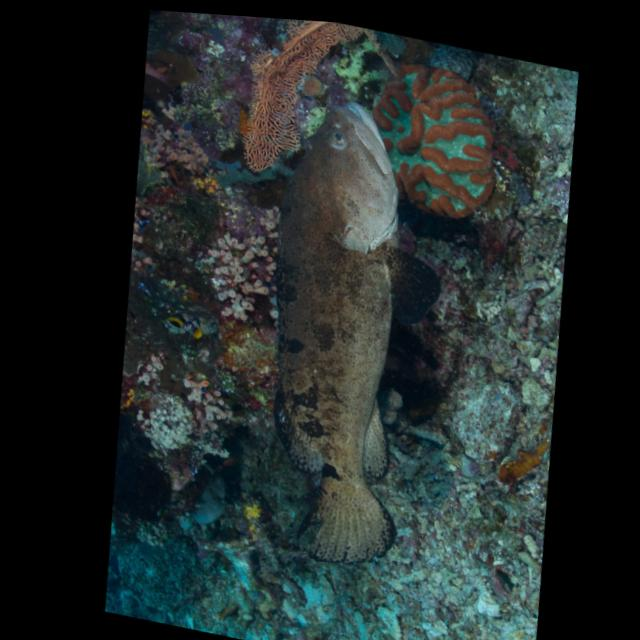Groupers: (221, 84, 458, 582)
